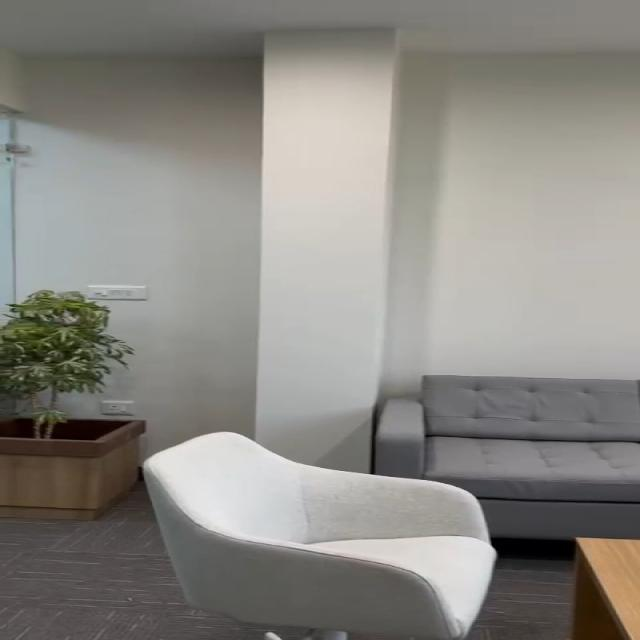floor: (0, 512, 163, 640), (497, 554, 578, 640)
furniture: (107, 427, 512, 640), (395, 360, 640, 540), (0, 279, 146, 517)
wall: (0, 11, 640, 281)
